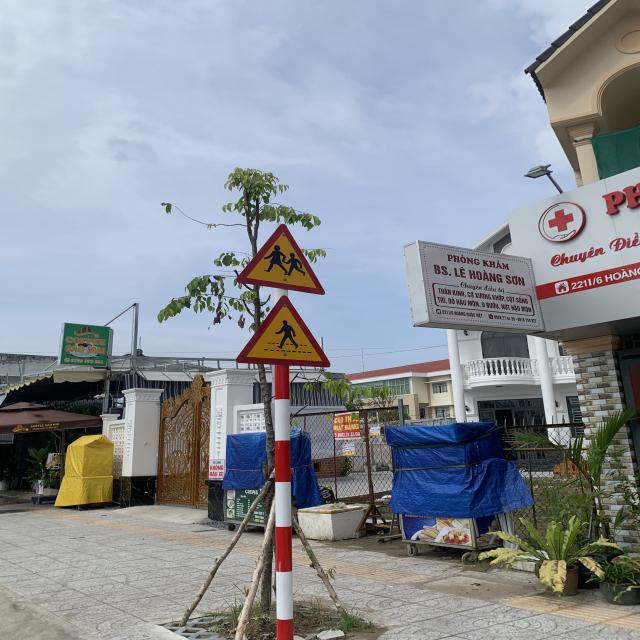Duong_Nguoi_Di_Bo_Sang_Ngang: (234, 294, 332, 368)
Vong_Xuyen: (237, 223, 326, 296)
